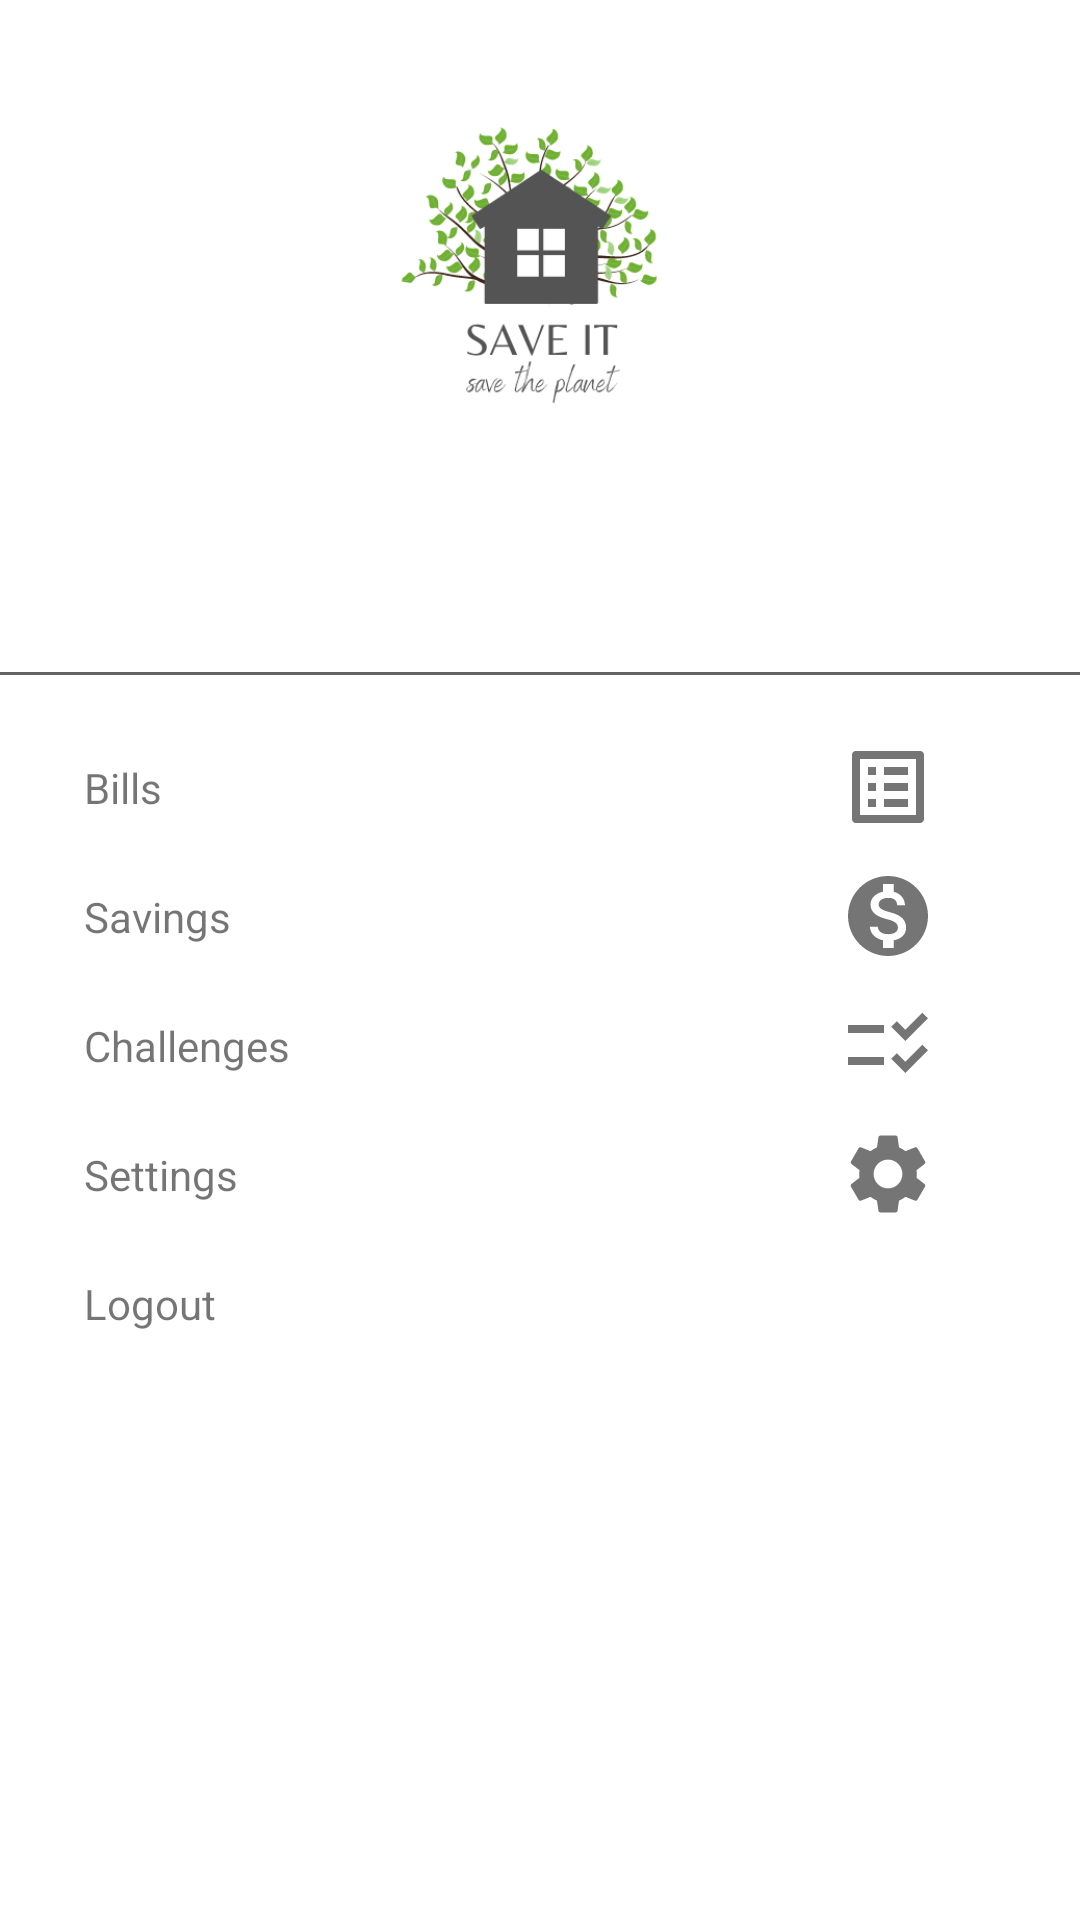

Screen size 1080px x 1920px. Icon name, then its center in pixels as (x=x, y=y):
list: (x=888, y=1043)
money: (x=888, y=916)
